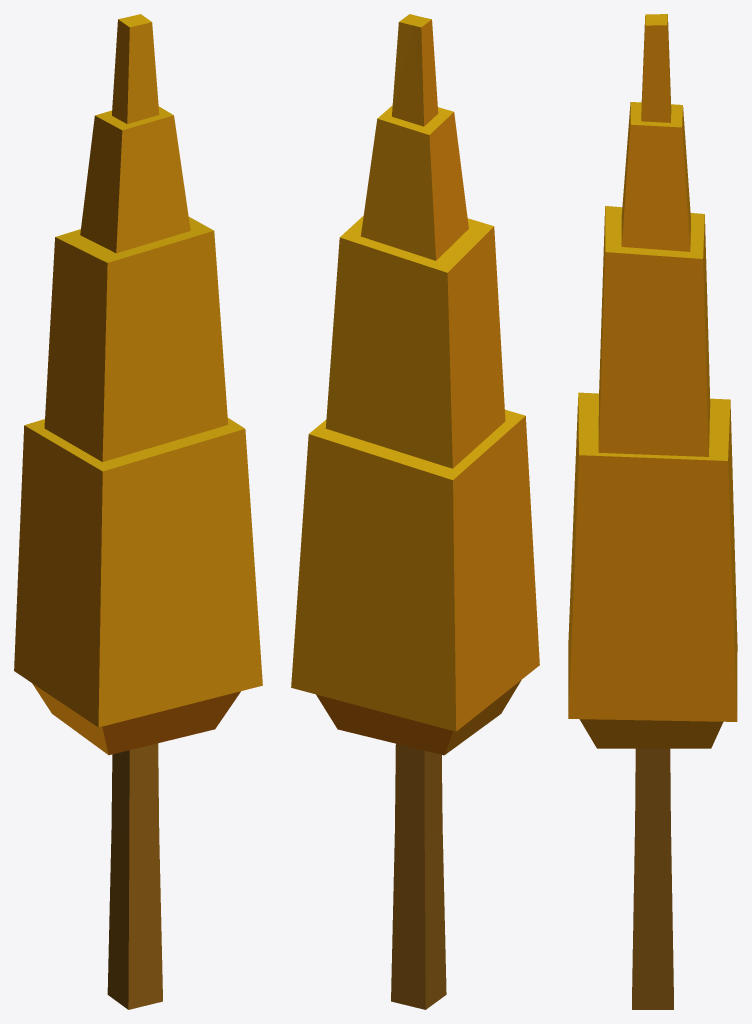
The model's file is SF_Env_Tree_Fall_02.fbx.
3 renders of one model, left to right at view 1: azimuth 30°, elevation 25°; view 2: azimuth 150°, elevation 25°; view 3: azimuth 270°, elevation 25°, orthographic.
Visible parts, largest first — view 1: SF_Env_Tree_Fall_02; view 2: SF_Env_Tree_Fall_02; view 3: SF_Env_Tree_Fall_02.
Boxes of the visible parts, bbox=[...] form: SF_Env_Tree_Fall_02: bbox=[14, 14, 262, 1009]; SF_Env_Tree_Fall_02: bbox=[291, 14, 539, 1009]; SF_Env_Tree_Fall_02: bbox=[568, 14, 737, 1009].
Size of the model in its own units: 2.28 by 12.92 by 2.01.
